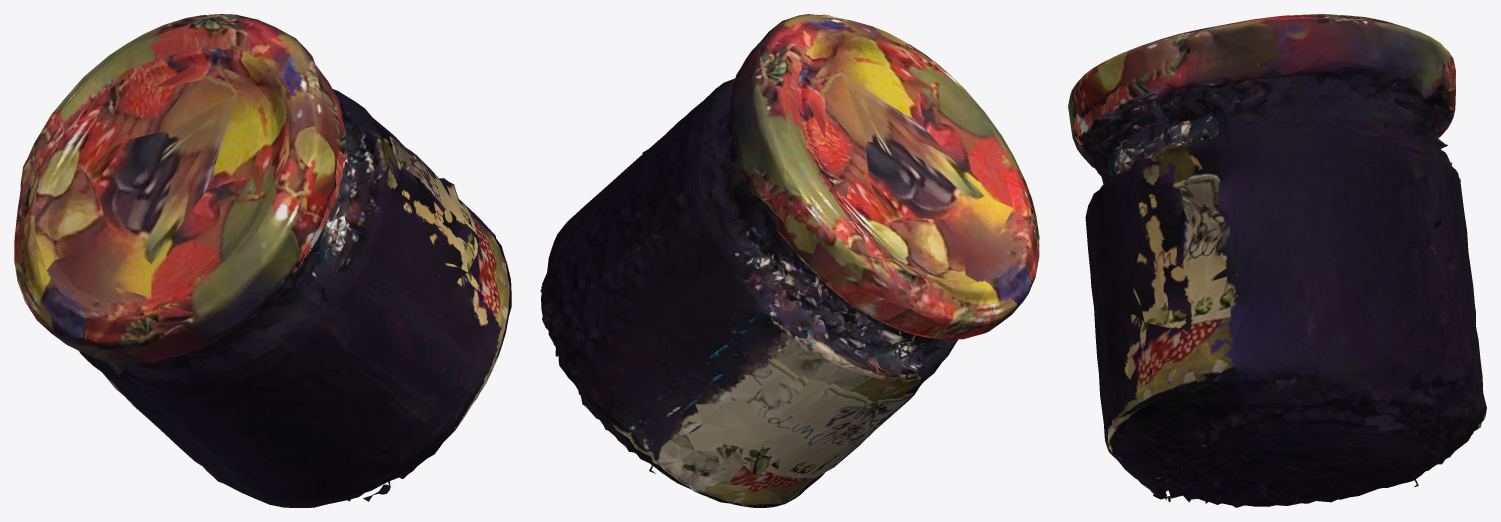
File: Konfituere.fbx
3 renders of one model, left to right at view 1: azimuth 30°, elevation 25°; view 2: azimuth 150°, elevation 25°; view 3: azimuth 270°, elevation 25°, orthographic. The views are drawn at different scales.
Visible parts, largest first — view 1: Konfituere_tex_high; view 2: Konfituere_tex_high; view 3: Konfituere_tex_high.
Part boxes in pixels (box(x1,y1,x2,y2)): Konfituere_tex_high: box(14, 14, 511, 507); Konfituere_tex_high: box(540, 14, 1039, 507); Konfituere_tex_high: box(1068, 14, 1486, 507).
Bounding box in the file's own units: 9.77 × 9.85 × 7.78.
